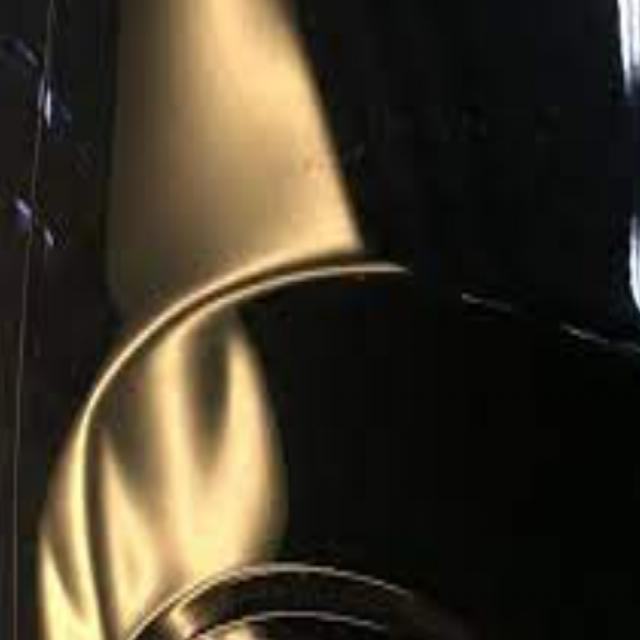dents: (154, 342, 296, 539)
